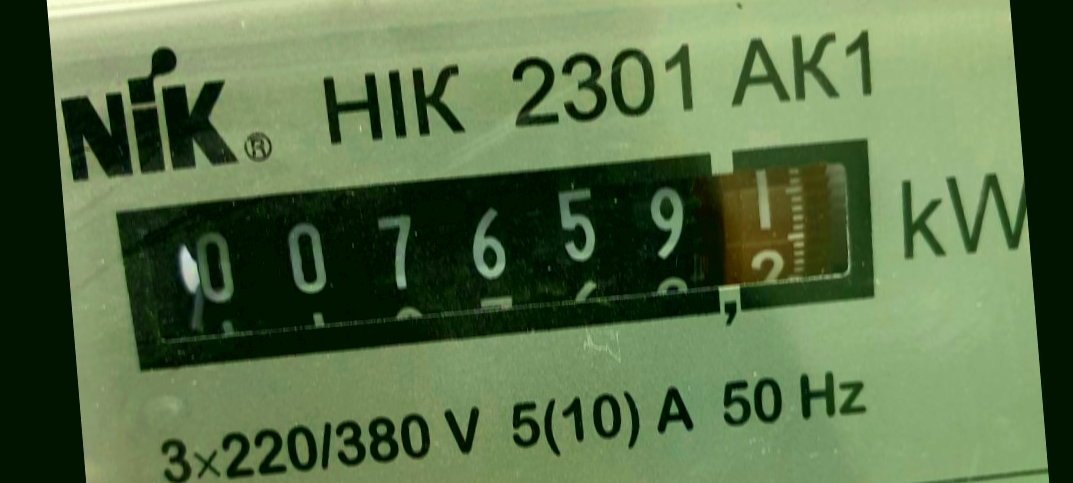0: (273, 211, 336, 301), (185, 220, 242, 313)
1: (744, 160, 784, 238)
5: (549, 181, 602, 267)
6: (457, 197, 515, 284)
7: (371, 207, 420, 295)
9: (642, 177, 691, 268)
screen: (93, 115, 902, 393)
